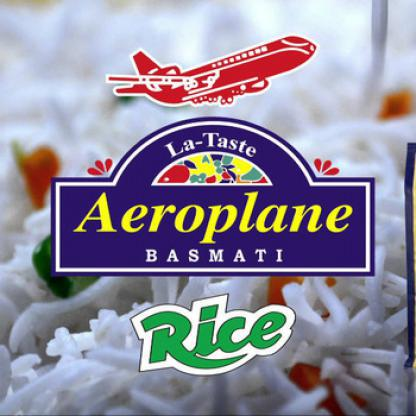CIV_Plane: (88, 32, 320, 116)
